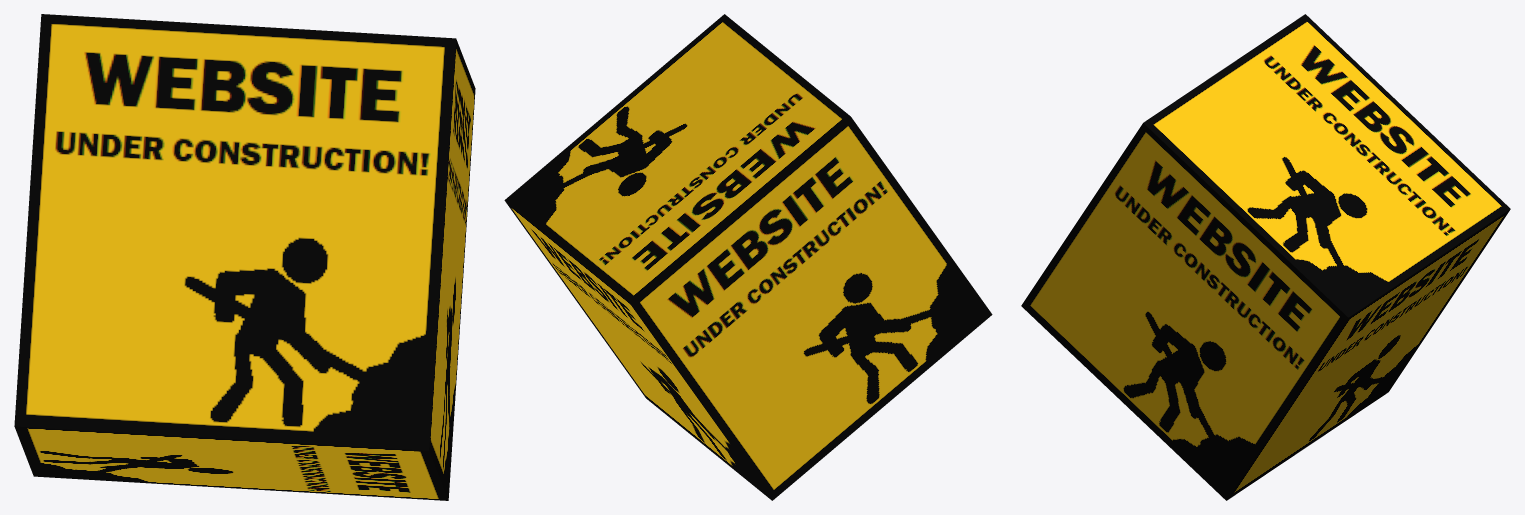
The picture shows the model from 3 angles, left to right: view 1: azimuth 30°, elevation 25°; view 2: azimuth 150°, elevation 25°; view 3: azimuth 270°, elevation 25°; orthographic projection. The views are drawn at different scales.
Visible parts, largest first — view 1: Cube; view 2: Cube; view 3: Cube.
Part boxes in pixels (<box>): Cube: <box>14,14,475,500</box>; Cube: <box>504,14,992,500</box>; Cube: <box>1021,14,1510,500</box>.
Size of what is drawn, in the model's own units: 3.22 by 2.81 by 3.39.
1 material, 1 textured.
